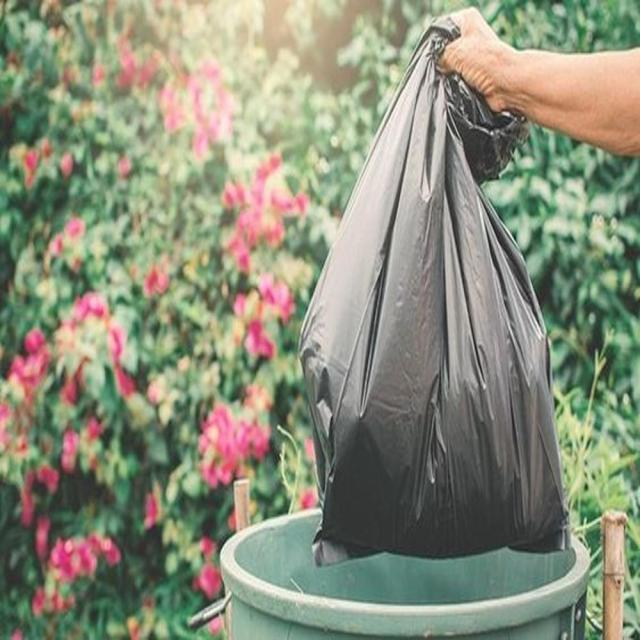KantongPlastik: (295, 11, 572, 566)
